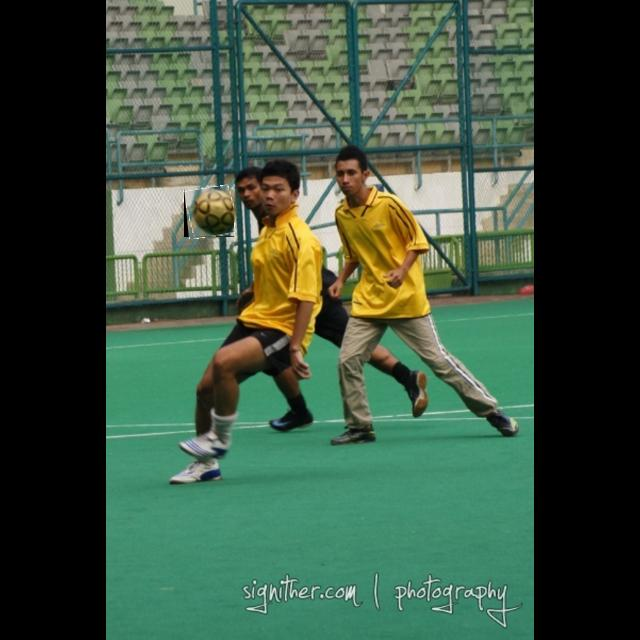Football: (184, 187, 234, 237)
